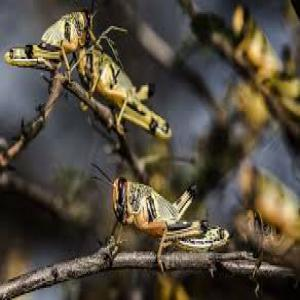locust: (84, 41, 170, 141), (2, 10, 98, 84)
